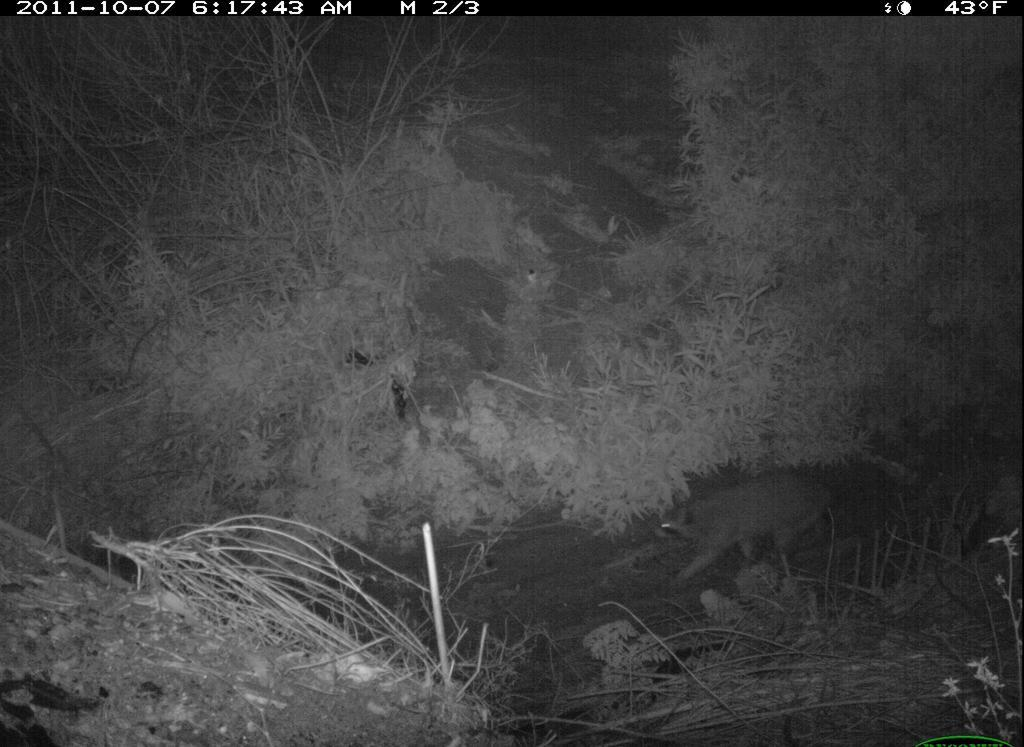raccoon: (647, 463, 848, 602)
